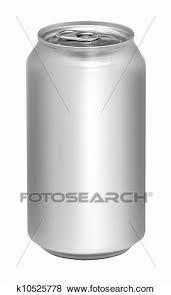Aluminum can: (18, 9, 164, 285)
